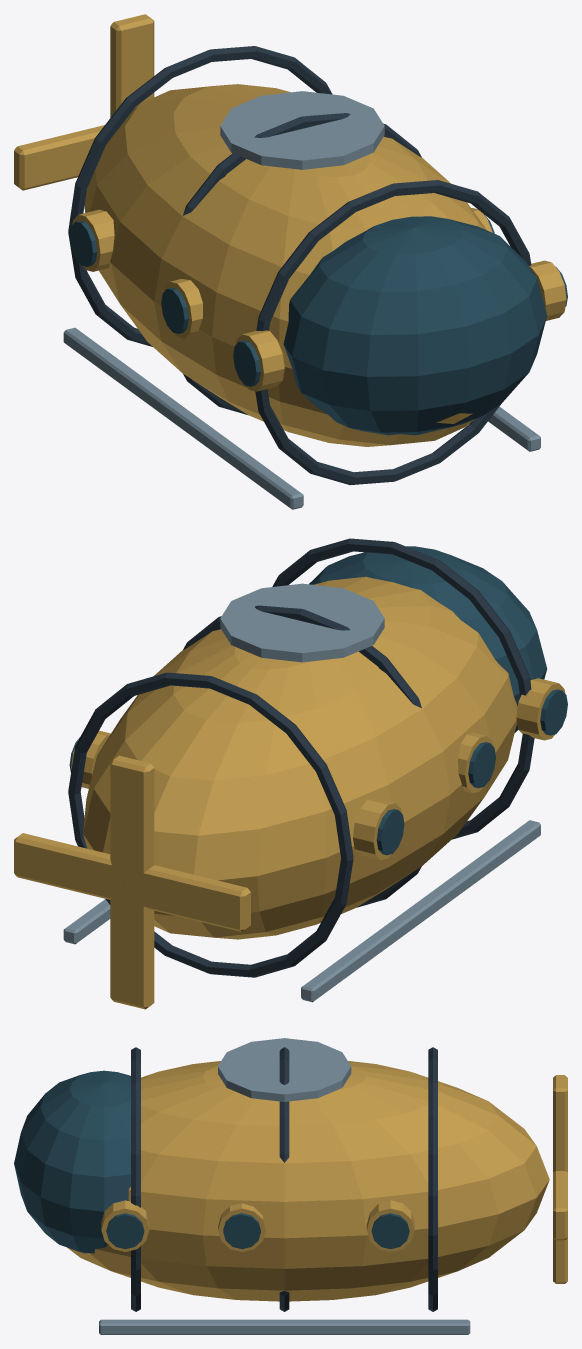
File: submarines-tandem-sub.lod0.glb
3 views of the same model, one above another, from view 1: azimuth 30°, elevation 25°; view 2: azimuth 150°, elevation 25°; view 3: azimuth 270°, elevation 25° (orthographic). The views are drawn at different scales.
Visible parts, largest first — view 1: submarines-tandem-sub__body, submarines-tandem-sub__hatch, submarines-tandem-sub__propeller; view 2: submarines-tandem-sub__body, submarines-tandem-sub__propeller, submarines-tandem-sub__hatch; view 3: submarines-tandem-sub__body, submarines-tandem-sub__hatch, submarines-tandem-sub__propeller.
Part boxes in pixels (<box>): submarines-tandem-sub__body: <box>63,46,567,509</box>; submarines-tandem-sub__hatch: <box>220,91,384,169</box>; submarines-tandem-sub__propeller: <box>14,14,154,190</box>; submarines-tandem-sub__body: <box>63,538,567,1002</box>; submarines-tandem-sub__propeller: <box>14,755,250,1009</box>; submarines-tandem-sub__hatch: <box>220,583,384,662</box>; submarines-tandem-sub__body: <box>14,1047,549,1334</box>; submarines-tandem-sub__hatch: <box>218,1038,351,1101</box>; submarines-tandem-sub__propeller: <box>553,1075,567,1283</box>.
Size of the model in its own units: 2.31 by 2.11 by 4.39.
